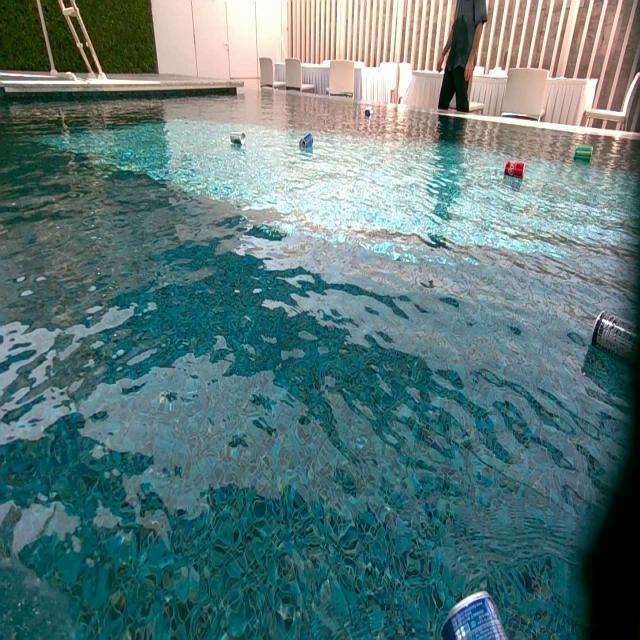Cans: (435, 594, 513, 640), (506, 162, 526, 180), (574, 144, 592, 160), (231, 131, 246, 148), (301, 133, 315, 149), (365, 108, 372, 118)
